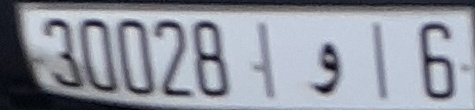0: (117, 17, 156, 96), (81, 18, 119, 94)
2: (152, 18, 193, 101)
3: (40, 17, 82, 89)
6: (417, 20, 458, 102)
8: (190, 19, 231, 99)
waw: (308, 39, 348, 98)
